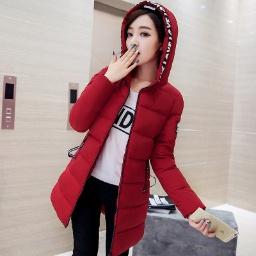face: (119, 6, 167, 66)
